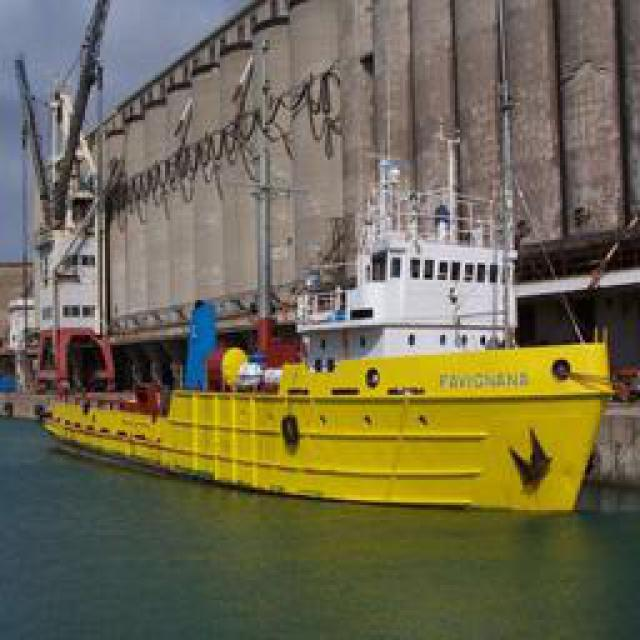Ship: (47, 128, 617, 513)
